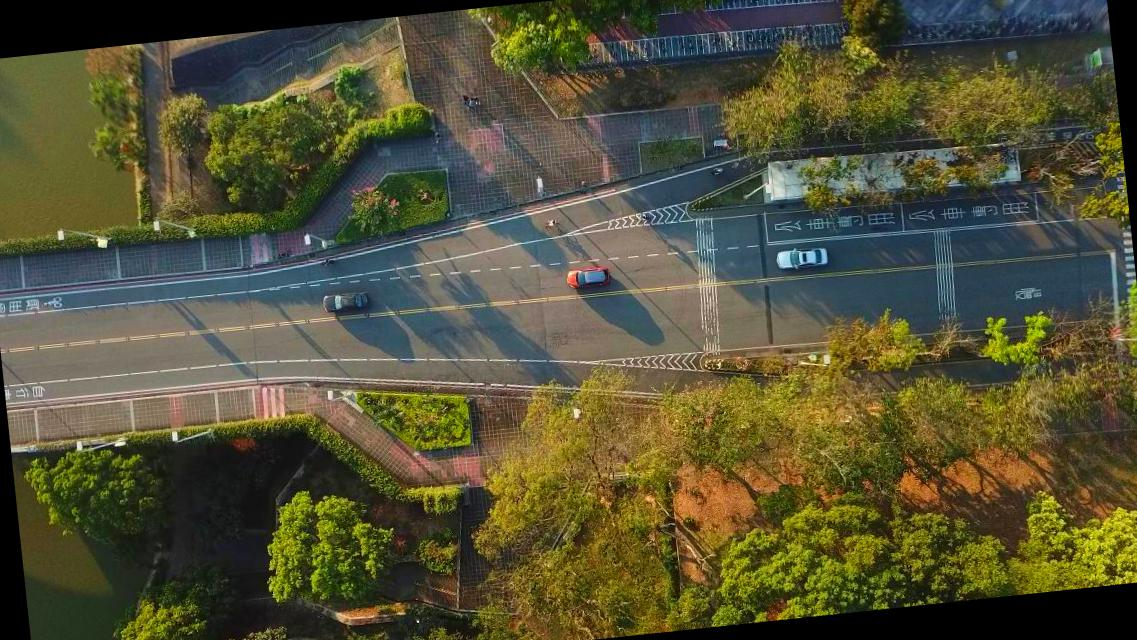vehicle: (772, 243, 830, 270), (562, 265, 614, 289), (322, 290, 369, 314)
